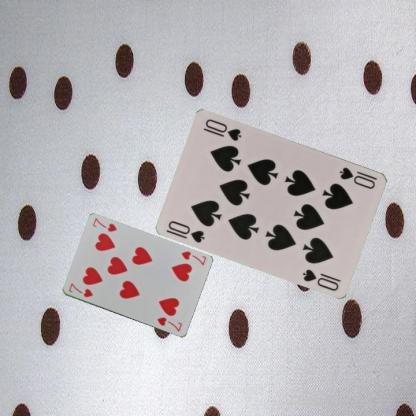10s: (337, 164, 379, 190), (166, 218, 207, 244)
7h: (178, 248, 208, 267), (66, 280, 94, 299)
